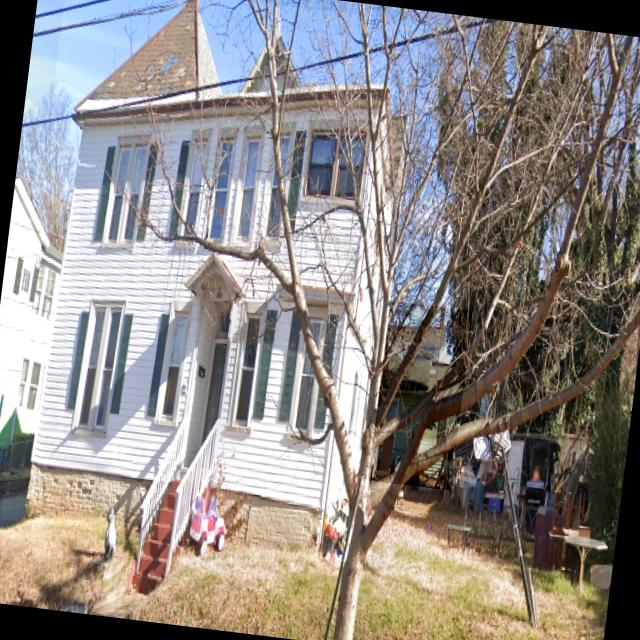House: (0, 0, 424, 562), (0, 177, 70, 474), (368, 300, 472, 490)
